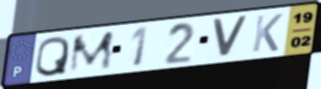1: (128, 25, 150, 70)
2: (161, 20, 198, 66)
K: (250, 12, 285, 54)
M: (66, 29, 117, 76)
Q: (33, 34, 72, 78)
V: (210, 15, 251, 59)
